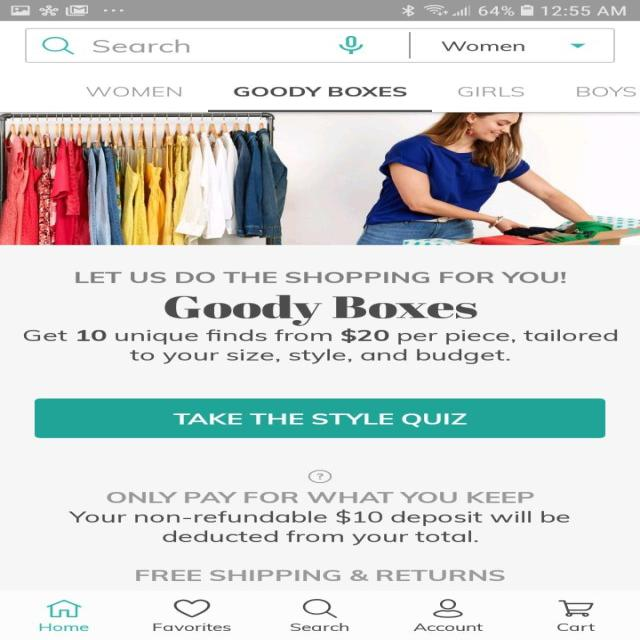EditText: (24, 28, 614, 63)
Icon: (173, 598, 211, 617), (302, 598, 338, 618), (557, 598, 594, 617), (46, 599, 82, 617), (42, 36, 74, 54), (432, 598, 462, 617), (338, 36, 362, 54), (308, 470, 332, 483), (569, 44, 585, 48)
Image: (0, 112, 639, 245)
Text: (23, 328, 617, 364), (67, 509, 569, 545), (163, 294, 478, 326), (74, 272, 566, 284), (135, 569, 505, 581), (106, 492, 534, 502), (232, 86, 406, 97), (92, 39, 190, 53), (86, 86, 182, 97), (441, 41, 524, 51), (456, 86, 524, 97), (152, 623, 231, 631), (576, 86, 636, 96), (412, 623, 482, 631), (290, 622, 348, 631), (39, 623, 89, 631), (554, 621, 594, 631)
TextButton: (34, 398, 604, 438)
